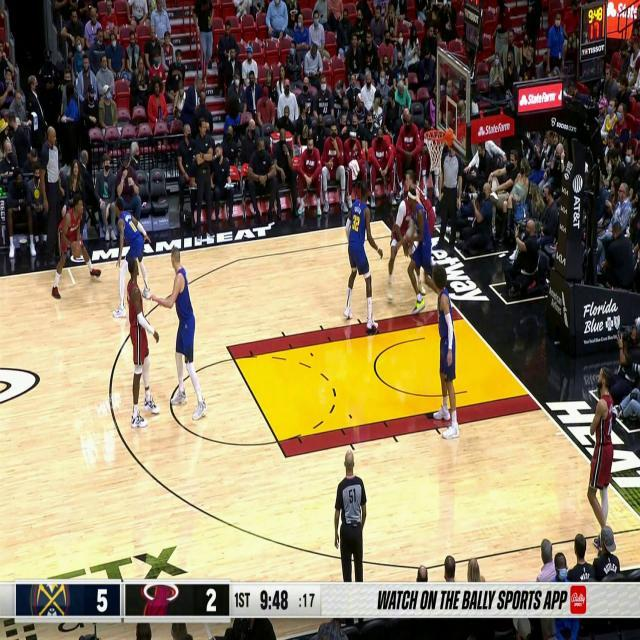rim: (71, 242, 82, 256)
